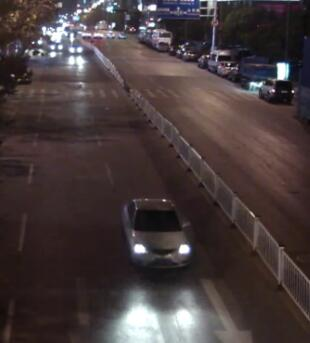bus: (145, 26, 170, 51), (137, 26, 149, 46)
car: (119, 196, 194, 275), (237, 53, 278, 89), (257, 76, 295, 103), (208, 48, 235, 70), (217, 61, 238, 76), (183, 46, 199, 61), (197, 52, 211, 67), (68, 41, 84, 54), (30, 34, 43, 48), (48, 39, 63, 51), (104, 28, 116, 39), (175, 43, 185, 56), (116, 30, 128, 39), (93, 29, 103, 39), (82, 29, 92, 38)
